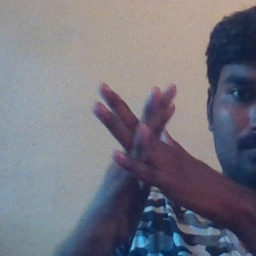W: (81, 73, 202, 209)
